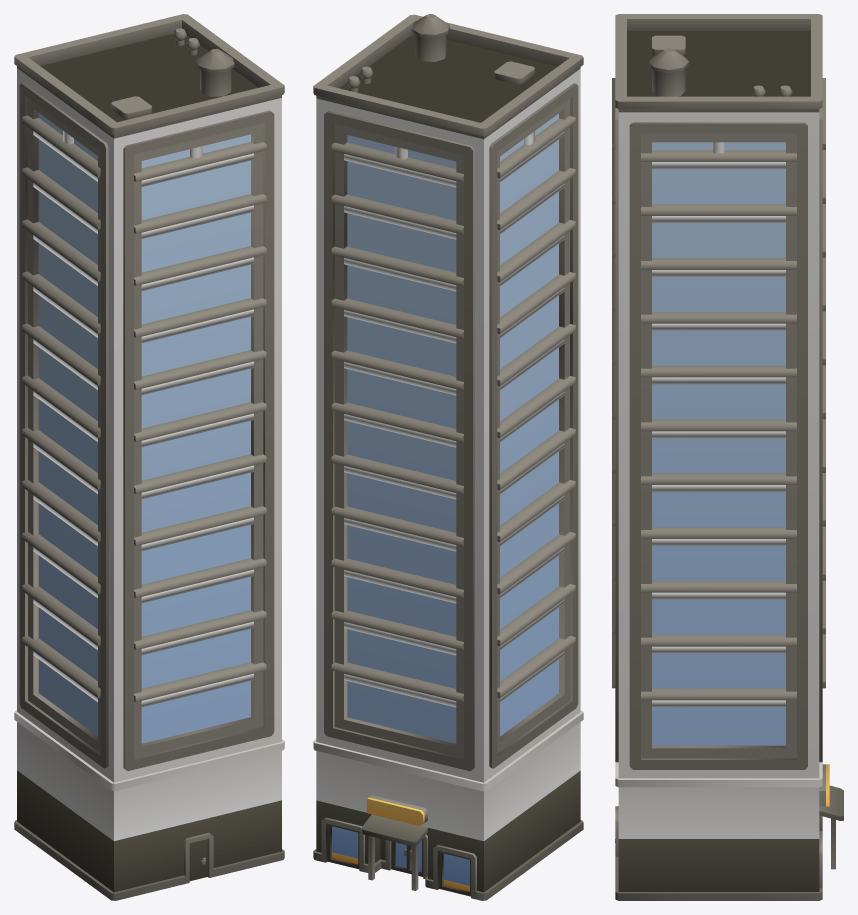
File: com-building-skyscraper-d.glb
3 renders of one model, left to right at view 1: azimuth 30°, elevation 25°; view 2: azimuth 150°, elevation 25°; view 3: azimuth 270°, elevation 25°, orthographic. The views are drawn at different scales.
Parts seen in each view (by area): view 1: building-skyscraper-d; view 2: building-skyscraper-d; view 3: building-skyscraper-d.
Part boxes in pixels (x1,y1,x2,y2): building-skyscraper-d: (14,14,284,900); building-skyscraper-d: (313,14,583,900); building-skyscraper-d: (612,14,843,900).
Bounding box in the file's own units: 1.28 × 5.47 × 1.39.
Materials: 1 (1 with a texture image).
